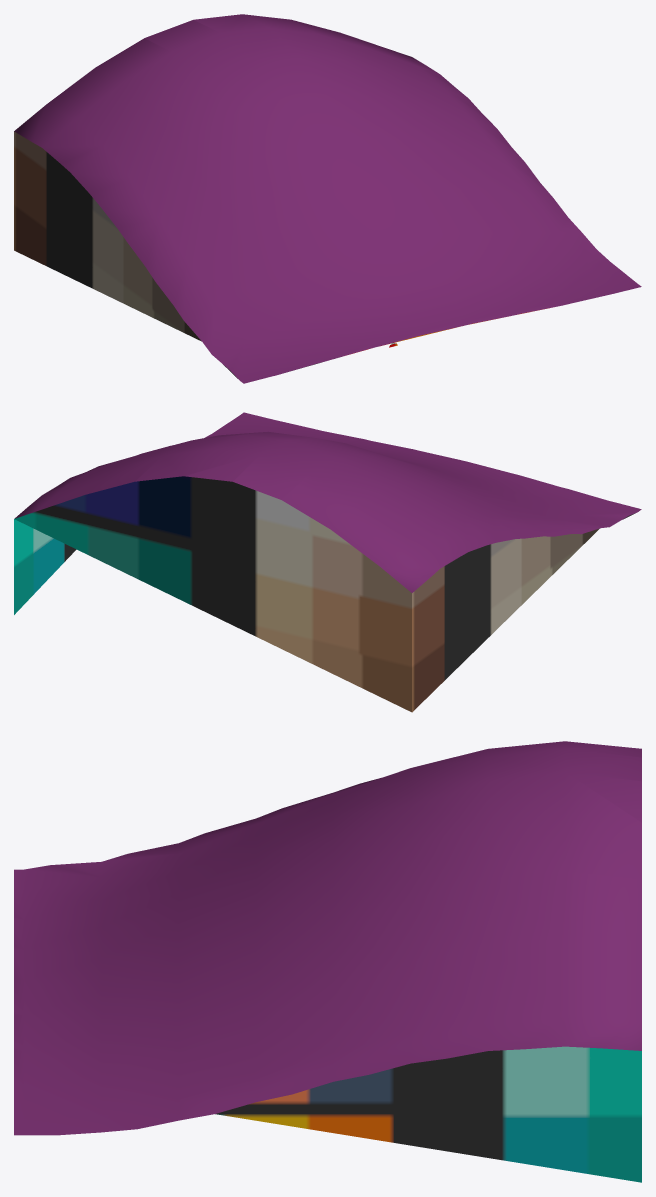
The model's file is tile_9_1_2.gltf.
The picture shows the model from 3 angles, top to bottom: view 1: azimuth 30°, elevation 25°; view 2: azimuth 150°, elevation 25°; view 3: azimuth 270°, elevation 25°; orthographic projection. The views are drawn at different scales.
Visible parts, largest first — view 1: Plane; view 2: Plane; view 3: Plane.
Boxes of the visible parts, bbox=[...] form: Plane: bbox=[14, 14, 641, 383]; Plane: bbox=[14, 412, 641, 712]; Plane: bbox=[14, 741, 641, 1182].
Bounding box in the file's own units: 16 × 7.45 × 16.
2 materials, 2 textured.
